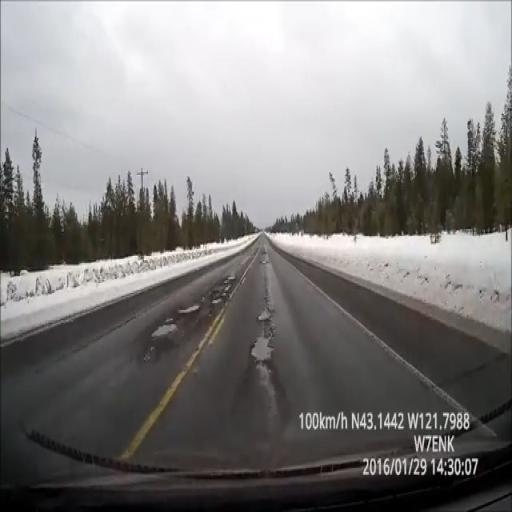Potholes: (253, 266, 299, 411)
